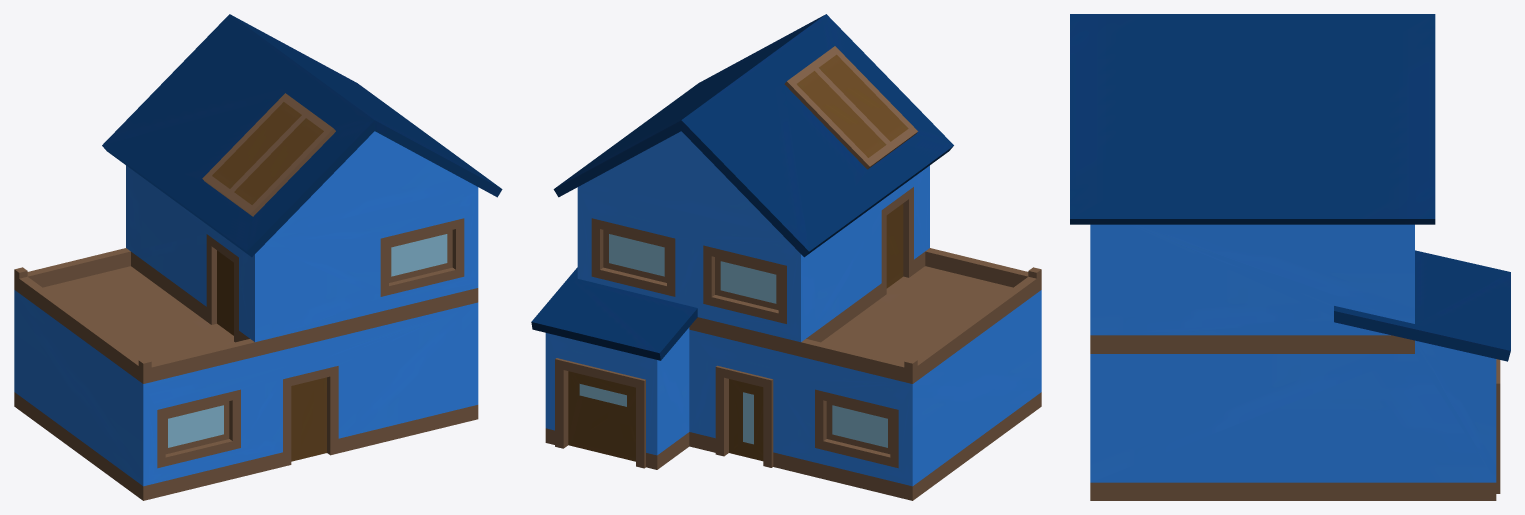
Rendered from house_type11.fbx.
The picture shows the model from 3 angles, left to right: view 1: azimuth 30°, elevation 25°; view 2: azimuth 150°, elevation 25°; view 3: azimuth 270°, elevation 25°; orthographic projection. The views are drawn at different scales.
Visible parts, largest first — view 1: house_type11; view 2: house_type11; view 3: house_type11.
Part boxes in pixels (x1,y1,x2,y2): house_type11: (14, 14, 502, 500); house_type11: (531, 14, 1041, 500); house_type11: (1070, 14, 1510, 500).
Size of the model in its own units: 12.58 by 11.38 by 10.86.
1 material, 1 textured.
